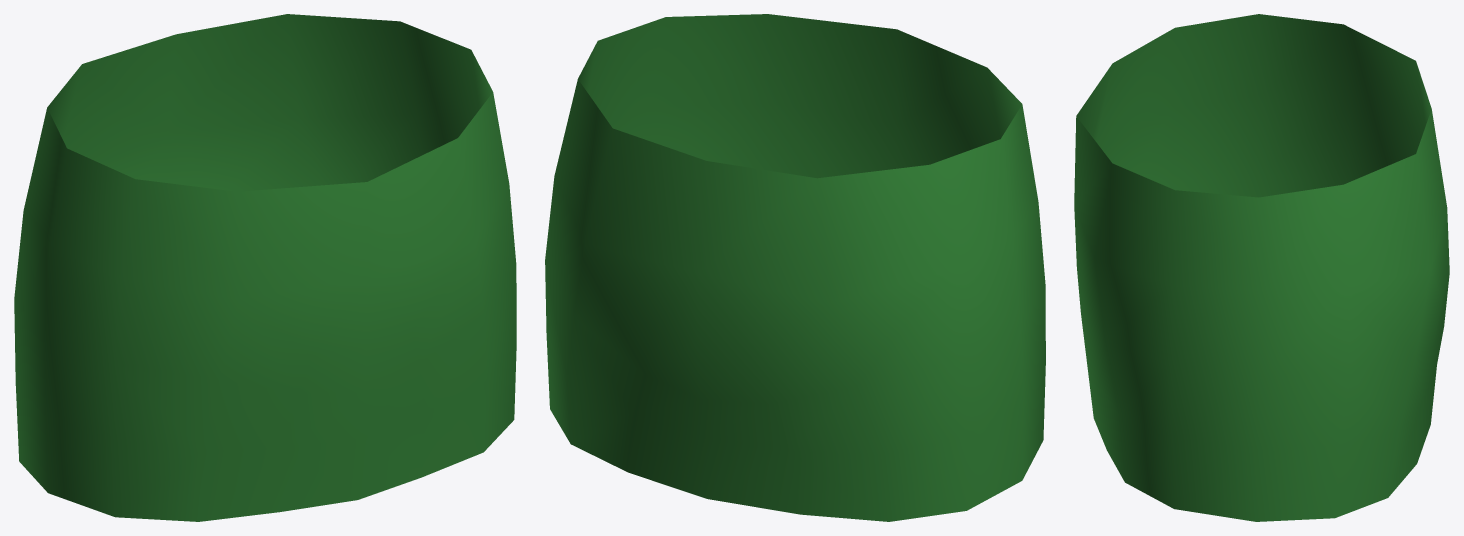
The model's file is Pants_Green_006.glb.
3 renders of one model, left to right at view 1: azimuth 30°, elevation 25°; view 2: azimuth 150°, elevation 25°; view 3: azimuth 270°, elevation 25°, orthographic. The views are drawn at different scales.
Parts seen in each view (by area): view 1: Pants_Green_006; view 2: Pants_Green_006; view 3: Pants_Green_006.
Part boxes in pixels (left/top/right/bottom): Pants_Green_006: left=14, top=14, right=516, bottom=521; Pants_Green_006: left=545, top=14, right=1045, bottom=521; Pants_Green_006: left=1074, top=14, right=1449, bottom=521.
Size of the model in its own units: 0.4681 by 0.3437 by 0.3645.
Materials: 1 (1 with a texture image).
